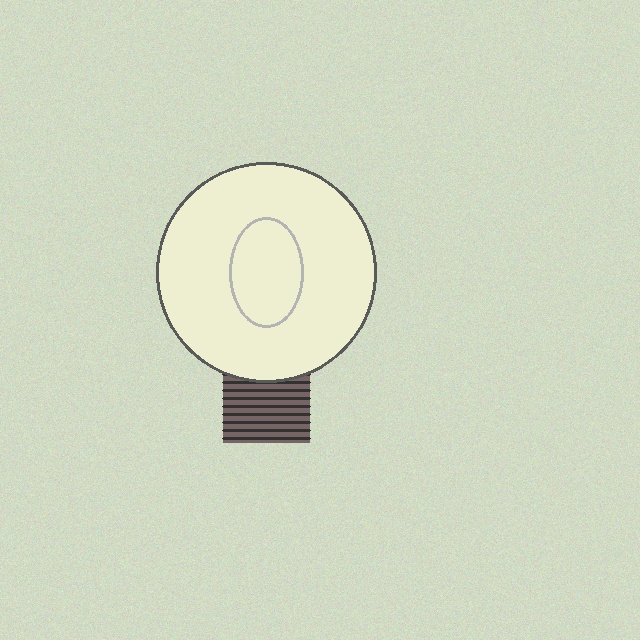bulb: (152, 158, 380, 447)
